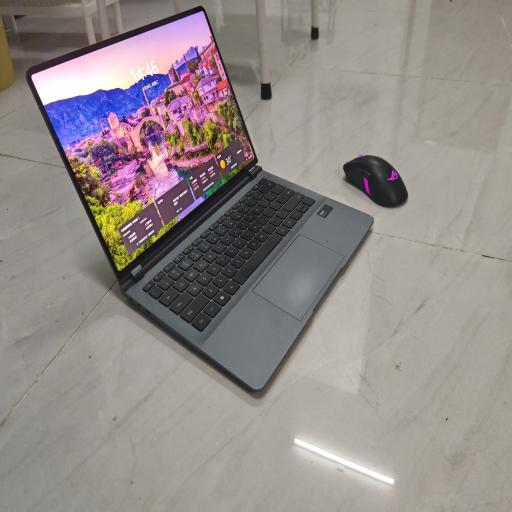laptop: (27, 7, 373, 390)
mouse: (343, 155, 408, 207)
